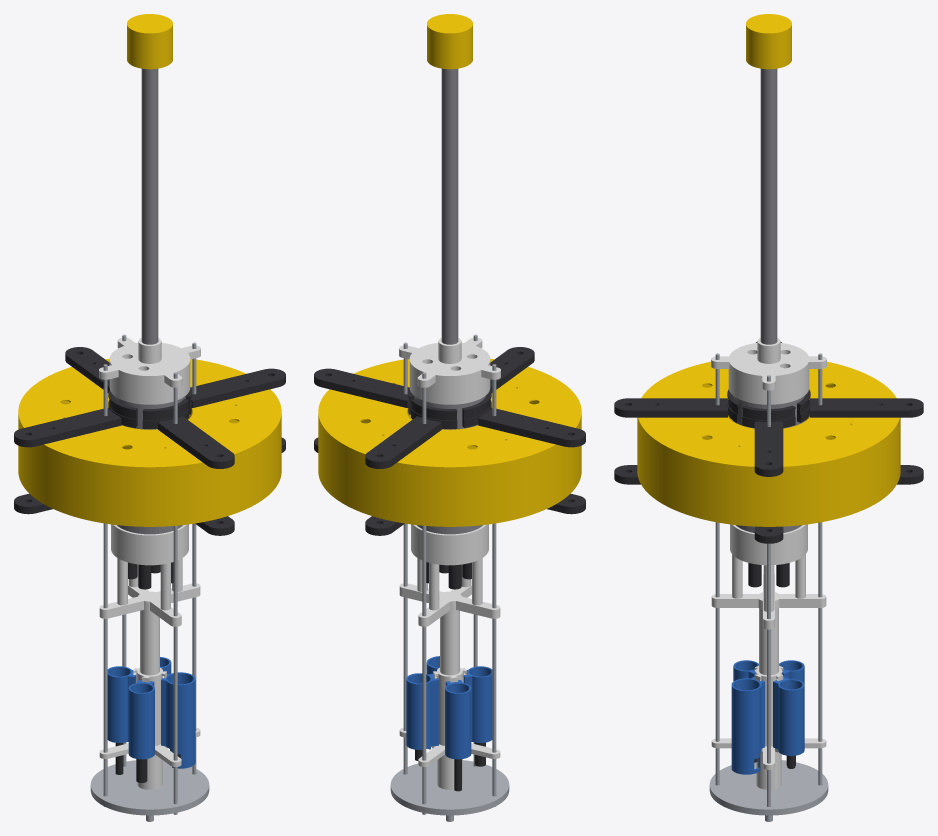
File: seasense_assembly.glb
The picture shows the model from 3 angles, left to right: view 1: azimuth 30°, elevation 25°; view 2: azimuth 150°, elevation 25°; view 3: azimuth 270°, elevation 25°; orthographic projection.
Visible parts, largest first — view 1: ring_tray_2, mast, top_cap, ring_lid_2, ballast_disc, ring_lid_3, ring_tray_3, ring_lid_1, keel_head, spoke_top_2, pod_turb, spoke_top_3 (+17 smaller); view 2: ring_tray_1, mast, top_cap, ballast_disc, ring_lid_1, ring_lid_0, ring_tray_0, ring_lid_2, keel_head, spoke_top_2, spoke_top_1, light (+17 smaller); view 3: ring_tray_0, ring_tray_3, mast, top_cap, ring_lid_0, ring_lid_3, ballast_disc, pod_turb, keel_head, spoke_top_1, spoke_top_3, spoke_top_0 (+12 smaller).
Boxes of the visible parts, box(x1,y1,x2,y2) form: ring_tray_2: box(36, 445, 215, 526); mast: box(141, 68, 158, 344); top_cap: box(99, 337, 200, 404); ring_lid_2: box(43, 425, 203, 468); ballast_disc: box(90, 760, 209, 815); ring_lid_3: box(188, 389, 281, 454); ring_tray_3: box(187, 409, 281, 519); ring_lid_1: box(18, 367, 109, 427); keel_head: box(99, 558, 200, 626); spoke_top_2: box(14, 390, 137, 447); pod_turb: box(161, 672, 195, 768); spoke_top_3: box(142, 399, 234, 468); ring_tray_1: box(384, 445, 563, 526); mast: box(441, 68, 458, 344); top_cap: box(399, 337, 500, 404); ballast_disc: box(390, 760, 509, 815); ring_lid_1: box(396, 425, 556, 468); ring_lid_0: box(318, 389, 411, 454); ring_tray_0: box(318, 409, 412, 519); ring_lid_2: box(490, 367, 581, 427); keel_head: box(399, 558, 500, 626); spoke_top_2: box(462, 390, 585, 447); spoke_top_1: box(365, 399, 457, 468); light: box(427, 14, 472, 69); ring_tray_0: box(769, 417, 900, 526); ring_tray_3: box(637, 417, 768, 526); mast: box(760, 68, 777, 344); top_cap: box(711, 338, 826, 404); ring_lid_0: box(783, 417, 899, 467); ring_lid_3: box(638, 417, 754, 467); ballast_disc: box(709, 760, 828, 815); pod_turb: box(731, 677, 764, 774); keel_head: box(711, 554, 826, 629); spoke_top_1: box(797, 389, 923, 422); spoke_top_3: box(614, 389, 740, 422); spoke_top_0: box(742, 405, 795, 476).
Bounding box in the file's own units: 470 × 1335 × 470.
